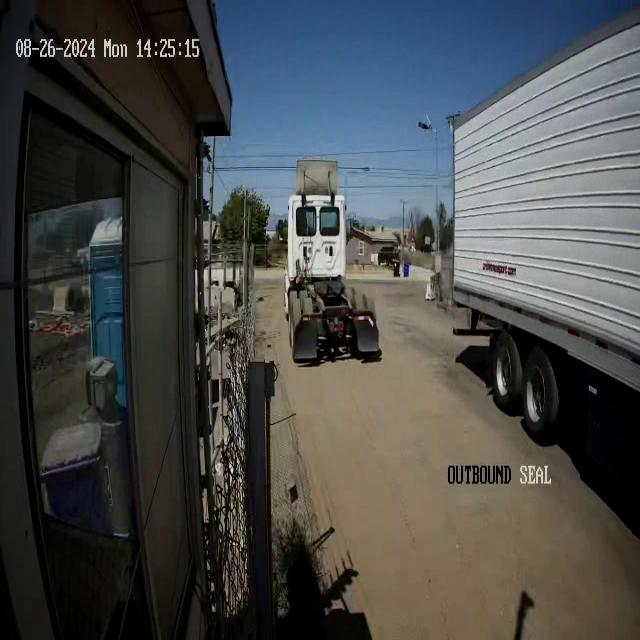BOBTAIL: (284, 158, 381, 364)
TRUCK_CONTAINER: (451, 3, 640, 448)
